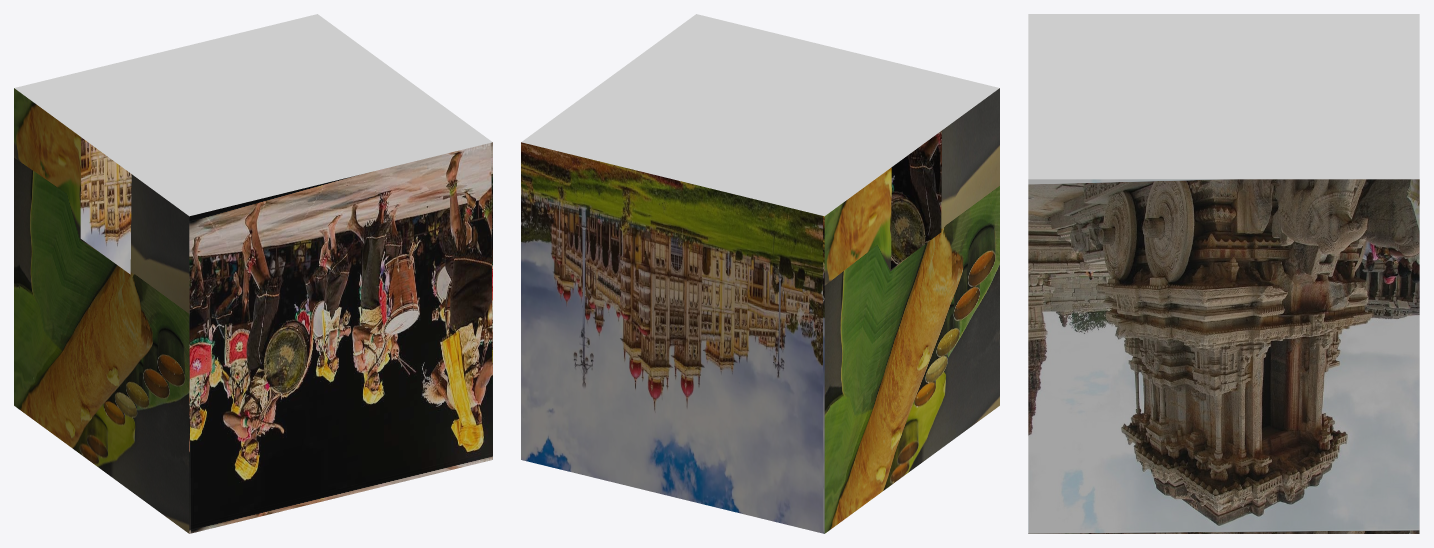
Rendered from Karnataka.glb.
The picture shows the model from 3 angles, left to right: view 1: azimuth 30°, elevation 25°; view 2: azimuth 150°, elevation 25°; view 3: azimuth 270°, elevation 25°; orthographic projection. The views are drawn at different scales.
Visible parts, largest first — view 1: Cube.003, Cube, Cube.005, Cube.002; view 2: Cube.002, Cube, Cube.005, Cube.003; view 3: Cube.004, Cube.
Part boxes in pixels (x1,y1,x2,y2): Cube.003: (189, 142, 492, 533); Cube: (14, 14, 492, 216); Cube.005: (14, 88, 189, 533); Cube.002: (80, 137, 131, 274); Cube.002: (521, 142, 824, 533); Cube: (521, 14, 999, 216); Cube.005: (824, 88, 999, 533); Cube.003: (891, 130, 941, 269); Cube.004: (1028, 179, 1419, 533); Cube: (1028, 14, 1419, 179).
Bounding box in the file's own units: 94.76 × 94.76 × 94.76.
5 materials, 4 textured.
